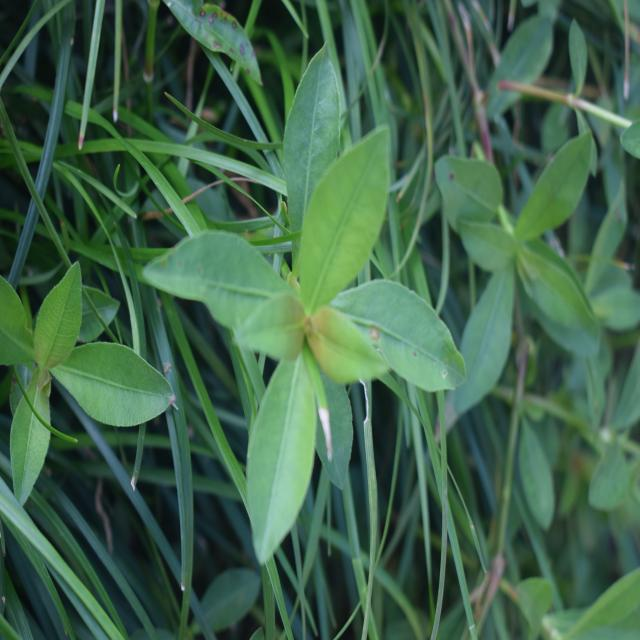Alligatorweed: (0, 259, 161, 493)
